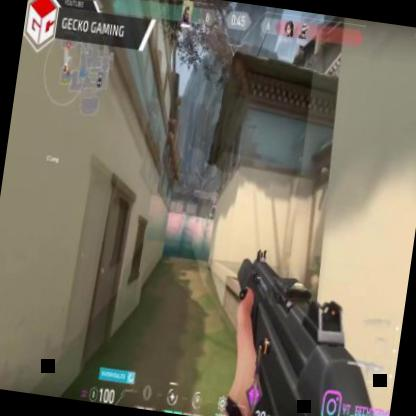enemy: (209, 192, 218, 218)
enemy_head: (213, 194, 217, 198)
